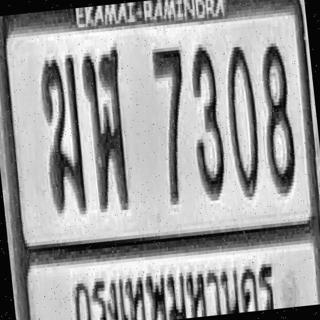A06: (37, 53, 88, 212)
A42: (80, 45, 134, 211)
N00: (221, 42, 264, 198)
N03: (185, 43, 228, 198)
N07: (151, 45, 196, 204)
N08: (256, 39, 298, 194)
P04: (66, 245, 282, 320)
